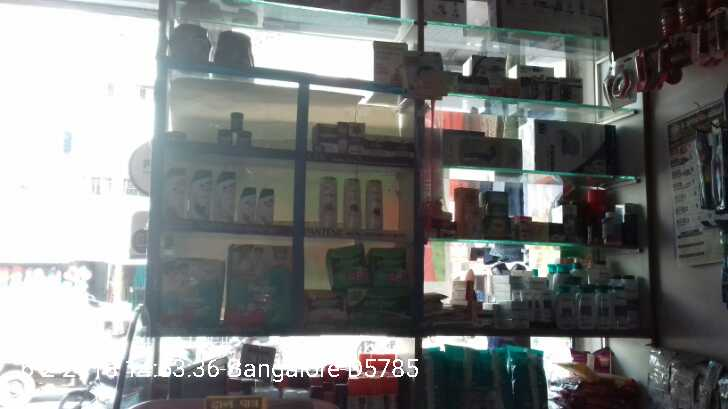beauty: (192, 168, 217, 230), (240, 184, 277, 225), (364, 175, 384, 234), (317, 175, 340, 225), (342, 175, 362, 229), (213, 163, 231, 222)
pharmacy: (225, 242, 295, 329), (152, 256, 223, 329), (321, 242, 369, 288), (346, 287, 410, 319), (370, 242, 403, 282), (226, 109, 247, 131)
